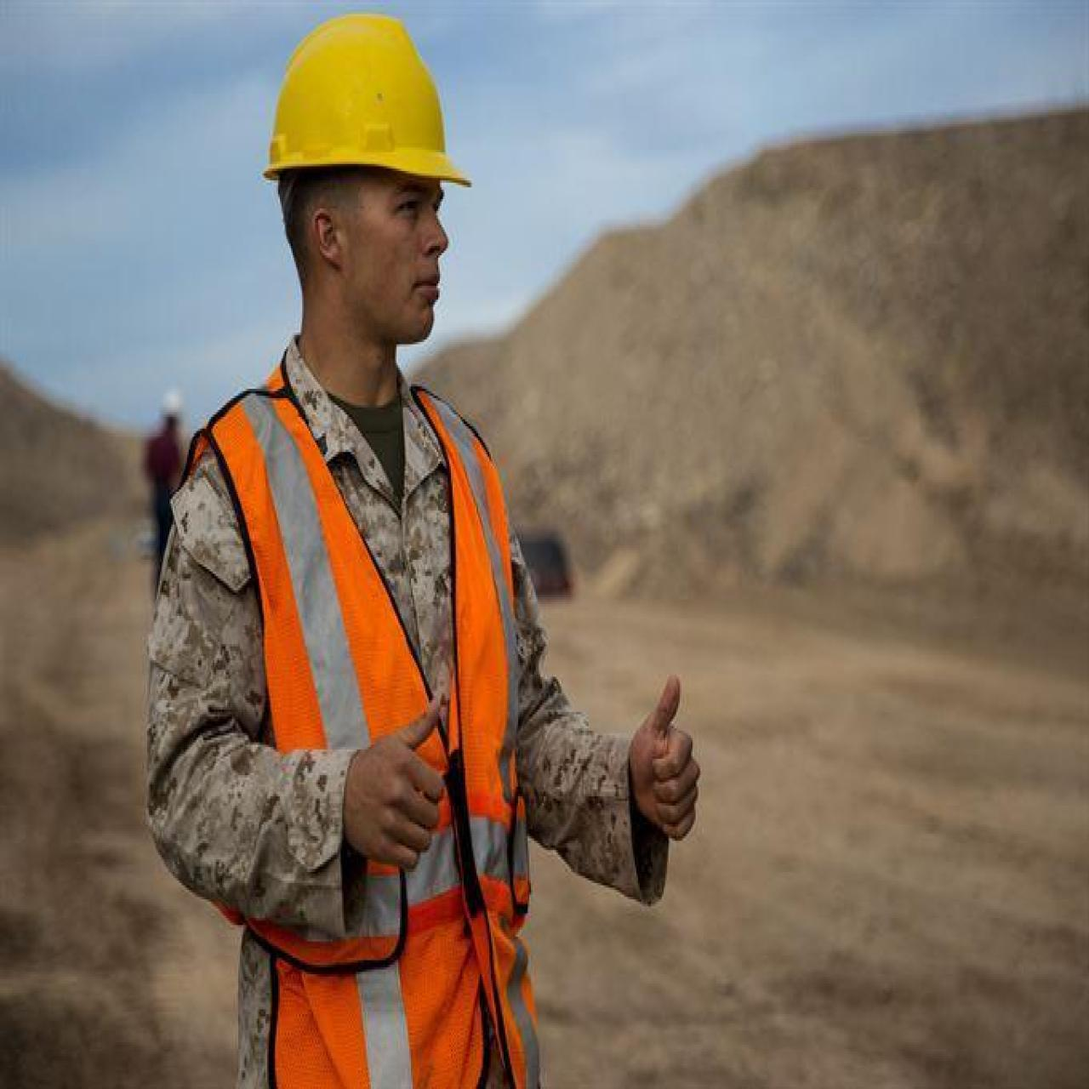Person: (151, 0, 722, 1086)
Safety_Vest: (190, 372, 537, 1089)
